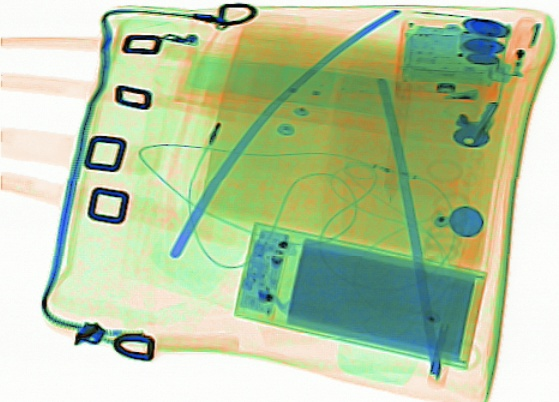lighter: (492, 13, 538, 86)
